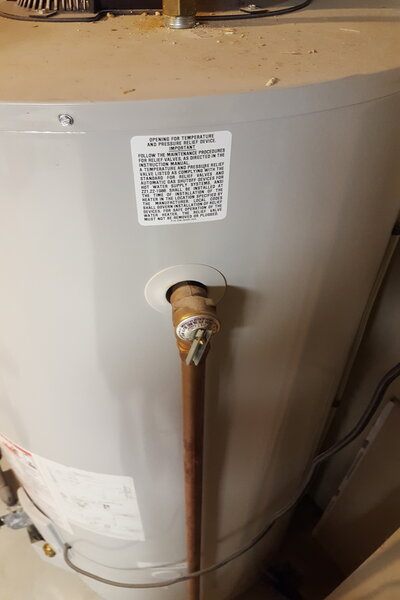valve: (165, 281, 222, 368)
